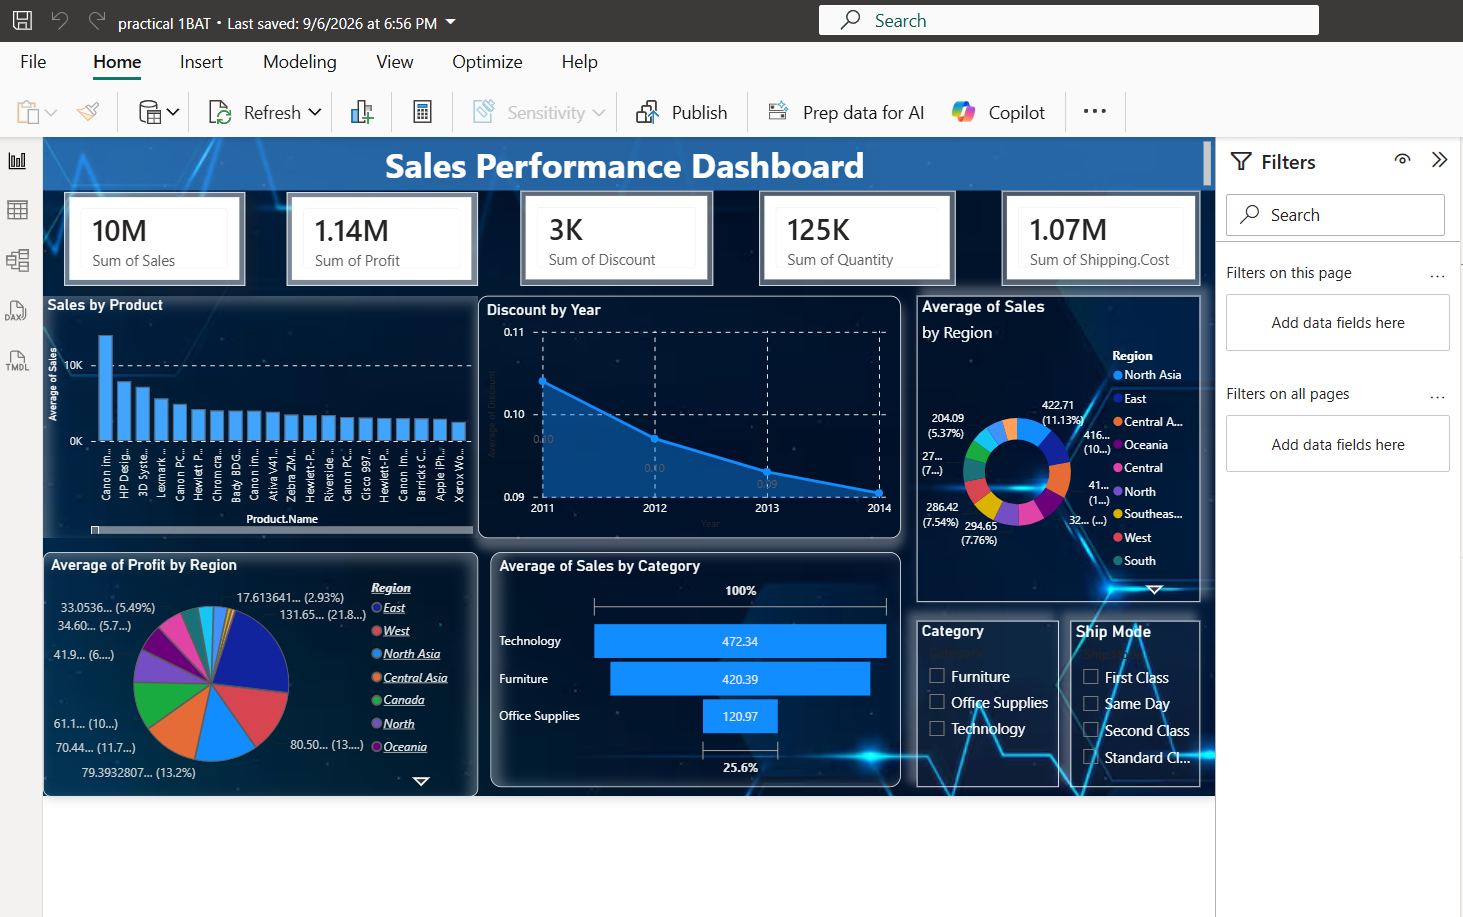

This screenshot's page, from the dashboard's own definition file:
{"tool":"powerbi","page":{"name":"Page 1","canvas":[1280,720],"ordinal":0},"visuals":[{"type":"columnChart","title":"Sales by Product","fields":{"Y":["Avg(superstore (2).Sales)"],"Category":["superstore (2).Product.Name"]},"box":[0,173.3,475,264.8],"z":0},{"type":"pieChart","fields":{"Category":["superstore (2).Region"],"Y":["Avg(superstore (2).Profit)"]},"box":[0,453.1,475,267.5],"z":1000},{"type":"stackedAreaChart","title":"Discount by Year","fields":{"Category":["superstore (2).Order.Date.Variation.Date Hierarchy.Year"],"Y":["Avg(superstore (2).Discount)"]},"box":[475,173.3,461.3,264.8],"z":2000},{"type":"funnel","fields":{"Category":["superstore (2).Category"],"Y":["Avg(superstore (2).Sales)"]},"box":[488.6,453.1,447.7,256.6],"z":3000},{"type":"textbox","box":[0,0,1280.3,58.7],"z":4000},{"type":"cardVisual","fields":{"Data":["Sum(superstore (2).Sales)"]},"box":[23.2,60.1,197.9,102.4],"z":5000},{"type":"cardVisual","fields":{"Data":["Sum(superstore (2).Profit)"]},"box":[266.2,60.1,208.8,102.4],"z":6000},{"type":"cardVisual","fields":{"Data":["Sum(superstore (2).Discount)"]},"box":[521.4,58.7,210.2,103.7],"z":7000},{"type":"cardVisual","fields":{"Data":["Sum(superstore (2).Quantity)"]},"box":[782.1,58.7,214.3,103.7],"z":8000},{"type":"cardVisual","fields":{"Data":["Sum(superstore (2).Shipping.Cost)"]},"box":[1046.9,58.7,217,103.7],"z":9000},{"type":"donutChart","fields":{"Category":["superstore (2).Region"],"Y":["Avg(superstore (2).Sales)"]},"box":[954.1,173.3,309.8,334.4],"z":10000},{"type":"slicer","title":"Category","fields":{"Values":["superstore (2).Category"]},"box":[954.1,528.2,155.6,181.5],"z":11000},{"type":"slicer","title":"Ship Mode","fields":{"Values":["superstore (2).Ship.Mode"]},"box":[1121.9,528.2,141.9,181.5],"z":12000}]}

Visuals, with their boxes on the page's 1280x720 design canvas (x1, y1, x2, y2). These are canvas units, not pixel positions in the 1463x917 screenshot, which may show the page scaled, cropped or inside an application window:
"Sales by Product" columnChart: 0,173,475,438
pieChart - superstore (2).Region x Avg(superstore (2).Profit): 0,453,475,721
"Discount by Year" stackedAreaChart: 475,173,936,438
funnel - superstore (2).Category x Avg(superstore (2).Sales): 489,453,936,710
textbox: 0,0,1280,59
cardVisual - Sum(superstore (2).Sales): 23,60,221,162
cardVisual - Sum(superstore (2).Profit): 266,60,475,162
cardVisual - Sum(superstore (2).Discount): 521,59,732,162
cardVisual - Sum(superstore (2).Quantity): 782,59,996,162
cardVisual - Sum(superstore (2).Shipping.Cost): 1047,59,1264,162
donutChart - superstore (2).Region x Avg(superstore (2).Sales): 954,173,1264,508
"Category" slicer: 954,528,1110,710
"Ship Mode" slicer: 1122,528,1264,710
